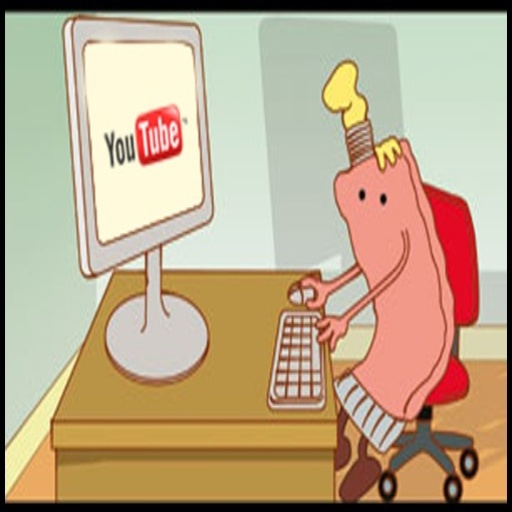hand: (318, 304, 354, 357), (296, 273, 327, 311)
